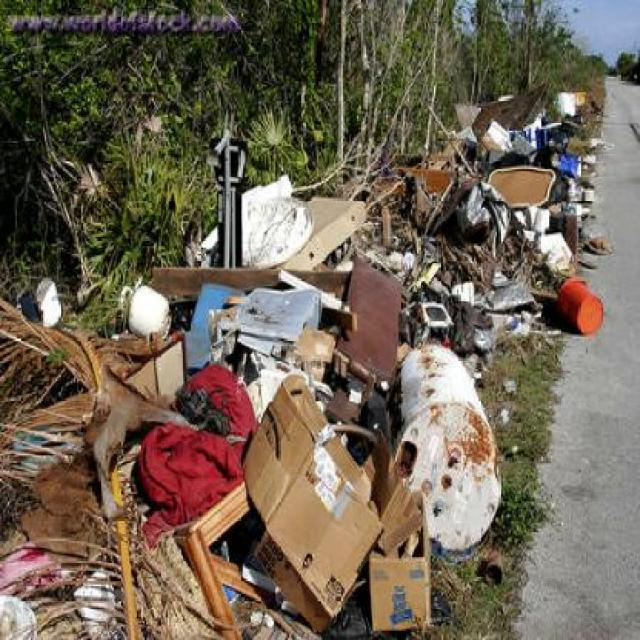garbage: (208, 131, 430, 636), (0, 286, 108, 636), (113, 271, 206, 636), (433, 136, 602, 330), (434, 334, 501, 570), (451, 93, 598, 139)
